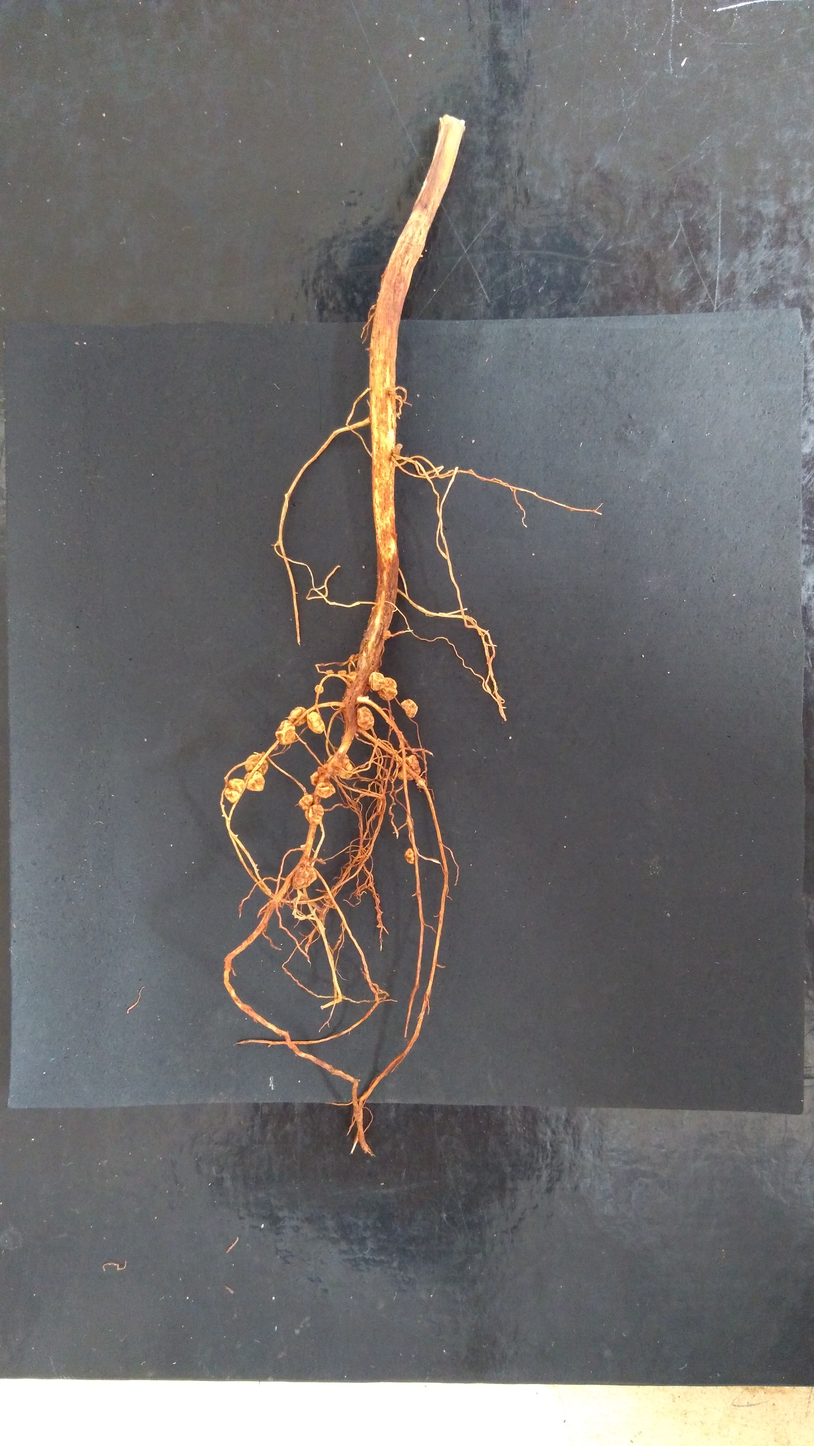nodule: (326, 754, 353, 779), (292, 865, 317, 889), (397, 755, 420, 780), (275, 720, 296, 745), (224, 779, 245, 803), (245, 754, 268, 775), (378, 677, 397, 701), (243, 771, 265, 791), (357, 706, 374, 730), (307, 712, 325, 734), (305, 804, 324, 824), (288, 707, 307, 726), (369, 671, 386, 691), (401, 699, 418, 718), (316, 782, 336, 798), (298, 794, 313, 810), (405, 848, 419, 864), (346, 671, 358, 682), (310, 772, 319, 786), (415, 779, 426, 788), (395, 443, 402, 456), (315, 685, 324, 694), (383, 631, 391, 640), (338, 671, 350, 677), (318, 766, 326, 774), (349, 654, 355, 661), (354, 654, 359, 662), (326, 670, 334, 675), (323, 763, 328, 769), (273, 745, 278, 750), (363, 696, 369, 699)
